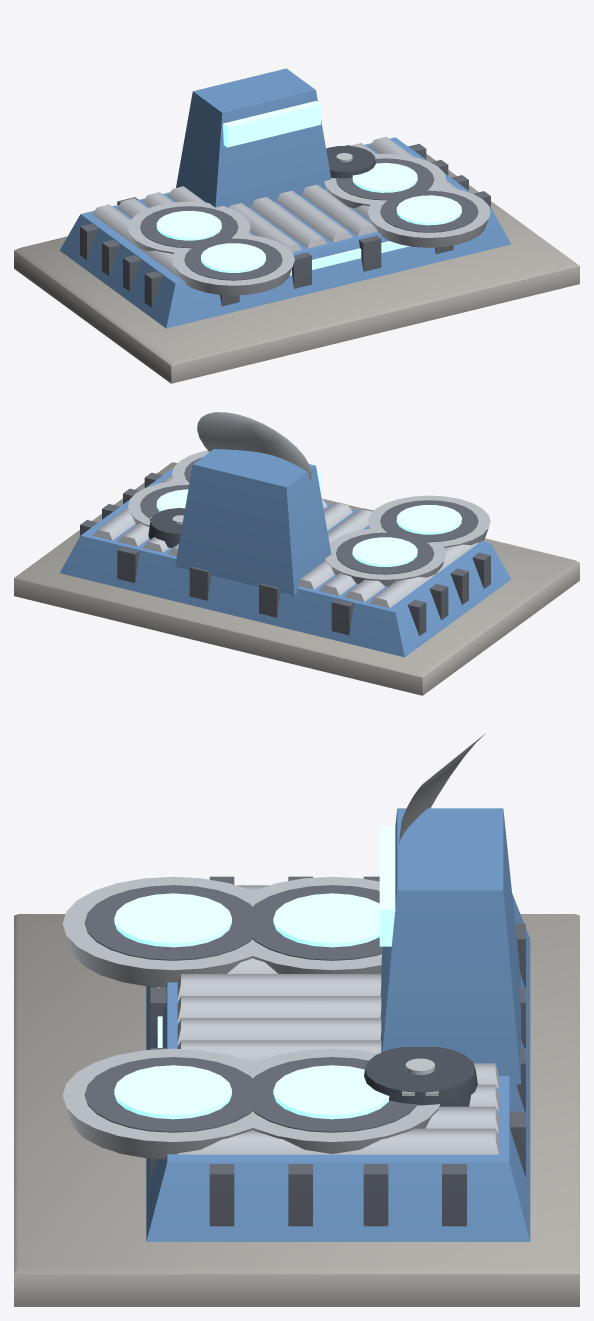
The model's file is gaairc.glb.
3 renders of one model, top to bottom at view 1: azimuth 30°, elevation 25°; view 2: azimuth 150°, elevation 25°; view 3: azimuth 270°, elevation 25°, orthographic. The views are drawn at different scales.
Parts seen in each view (by area): view 1: Hull, Rotor; view 2: Hull, Rotor; view 3: Hull, Rotor.
Boxes of the visible parts, <box> form: Hull: <box>14,90,579,383</box>; Rotor: <box>193,68,320,147</box>; Hull: <box>14,450,579,695</box>; Rotor: <box>193,412,320,487</box>; Hull: <box>14,809,579,1306</box>; Rotor: <box>379,733,503,945</box>.
Size of the model in its own units: 5.18 by 2.64 by 3.46.
